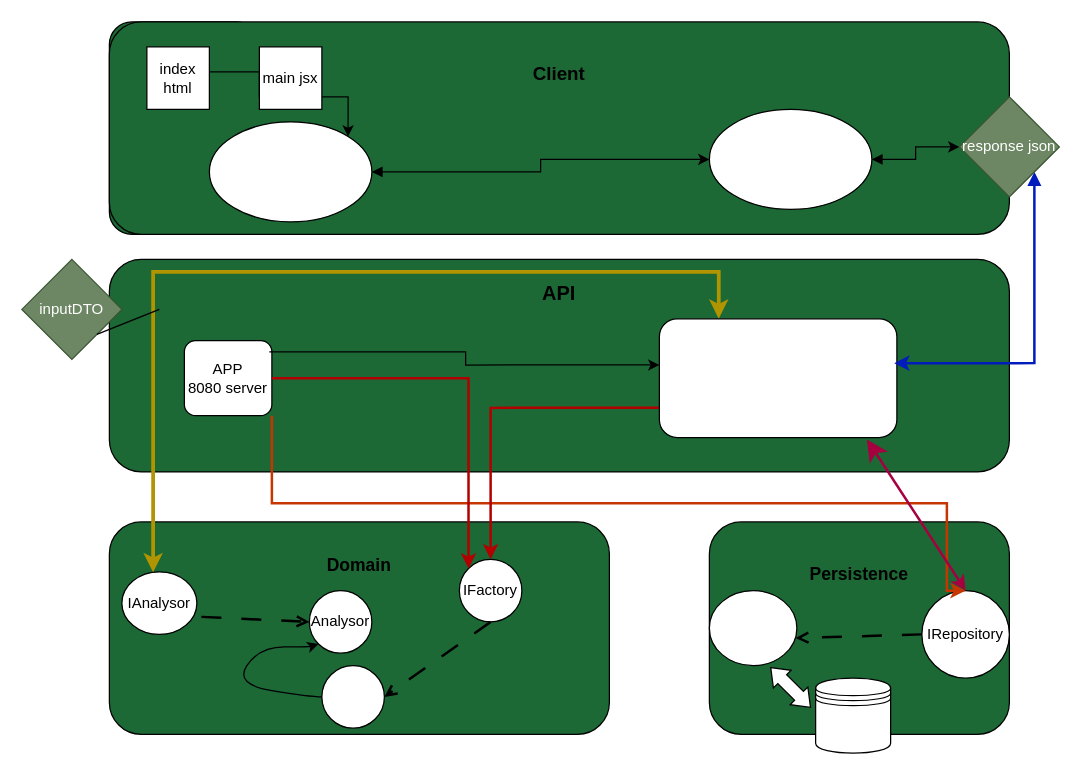
Some shapes in this 1081 by 775 pixel diagram are drawn without their labels. The centre of each missing label's shape, as x and y in pixels:
"API.js fetch path" belongs at point (790, 158).
"App.jsx 5173 server" belongs at point (290, 171).
"Controller @Path /start" belongs at point (777, 378).
"Factory" belongs at point (352, 696).
"MySQL Database" belongs at point (852, 715).
"Repository" belongs at point (752, 627).
